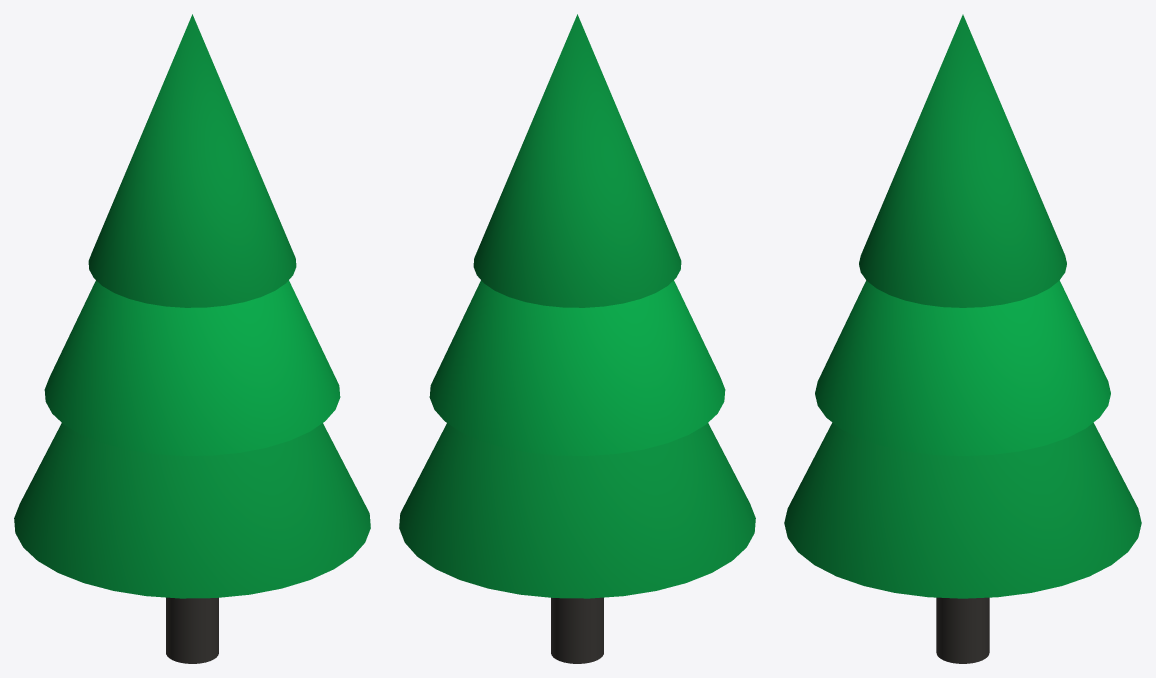
File: tree_conifer.glb
The picture shows the model from 3 angles, left to right: view 1: azimuth 30°, elevation 25°; view 2: azimuth 150°, elevation 25°; view 3: azimuth 270°, elevation 25°; orthographic projection.
Parts seen in each view (by area): view 1: foliage_green, foliage_leaf, continuous-trunk_ink; view 2: foliage_green, foliage_leaf, continuous-trunk_ink; view 3: foliage_green, foliage_leaf, continuous-trunk_ink.
Part boxes in pixels (box(x1,y1,x2,y2)): foliage_green: box(14, 14, 370, 598); foliage_leaf: box(44, 280, 340, 455); continuous-trunk_ink: box(166, 597, 218, 663); foliage_green: box(399, 14, 755, 598); foliage_leaf: box(429, 280, 725, 455); continuous-trunk_ink: box(551, 597, 603, 663); foliage_green: box(784, 14, 1141, 598); foliage_leaf: box(815, 280, 1110, 455); continuous-trunk_ink: box(936, 597, 989, 663).
Bounding box in the file's own units: 3.5 × 6.9 × 3.5.
